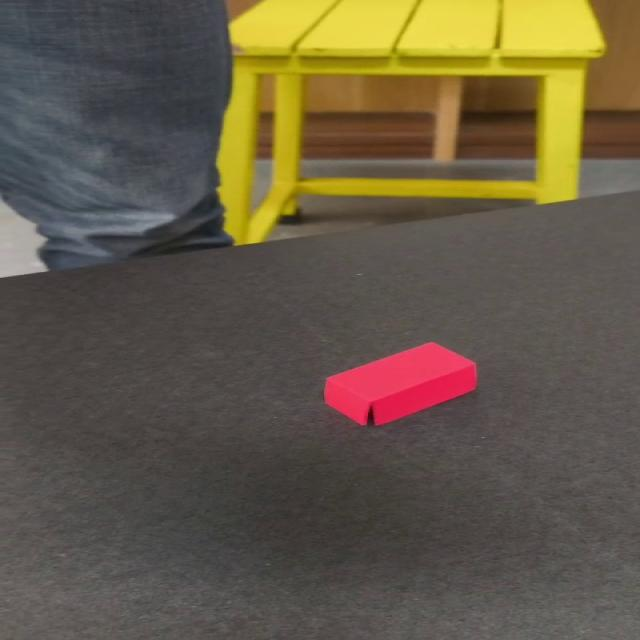red block: (321, 341, 479, 426)
